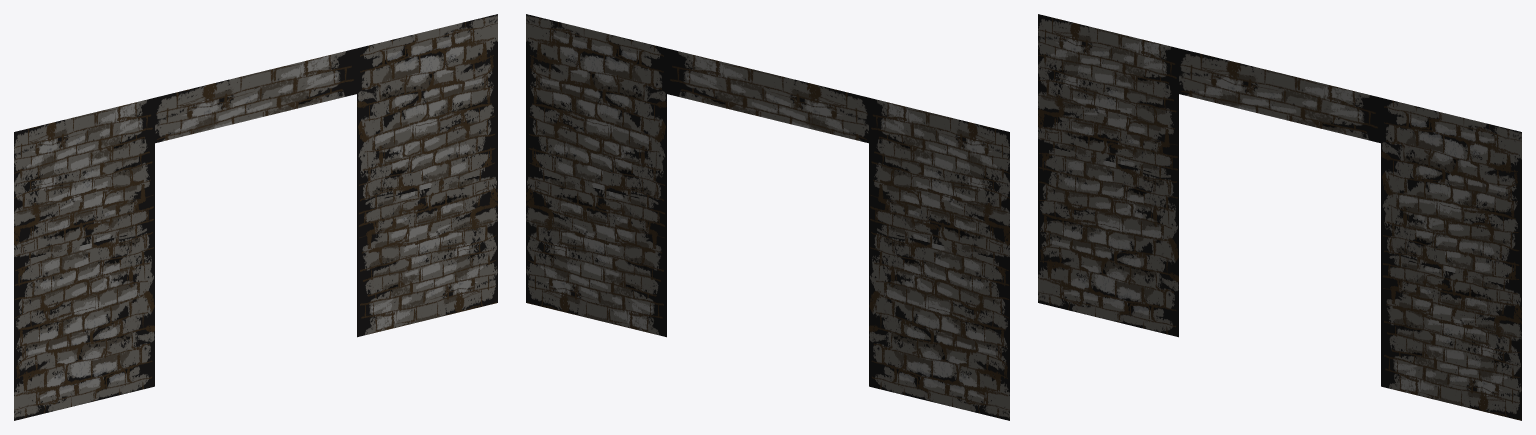
Rendered from Treasure_Wall1.fbx.
The picture shows the model from 3 angles, left to right: view 1: azimuth 30°, elevation 25°; view 2: azimuth 150°, elevation 25°; view 3: azimuth 330°, elevation 25°; orthographic projection.
Visible parts, largest first — view 1: Walls.001; view 2: Walls.001; view 3: Walls.001.
Boxes of the visible parts, box(x1,y1,x2,y2) form: Walls.001: box(14, 14, 497, 420); Walls.001: box(526, 14, 1009, 420); Walls.001: box(1038, 14, 1521, 420).
Size of the model in its own units: 959 by 547 by 0.000373.
